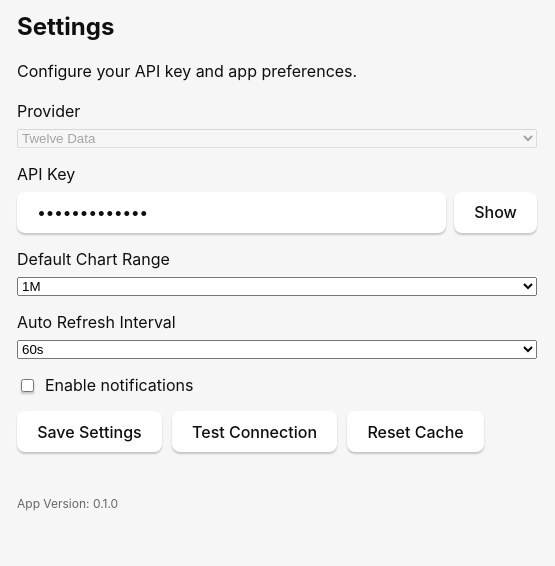
Test: SettingsScreen › clears cache from settings action
What coordinates should you click on to do the following:
click the button "Reset Cache"
I would click on:
 (416, 432)
Its box is [347,411,484,452].
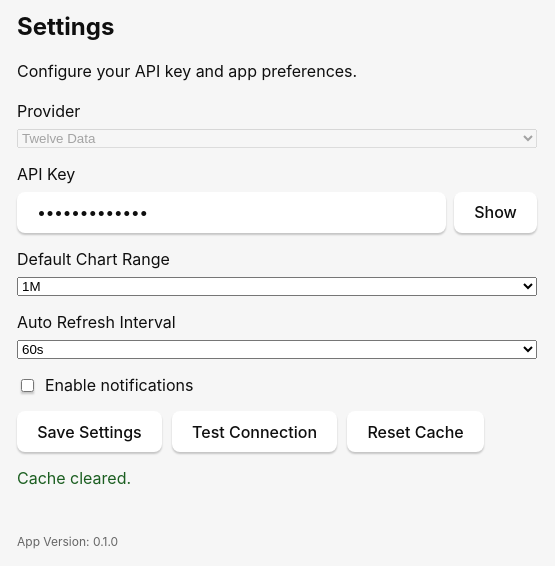
Now the text "Cache cleared." is shown, box [17,468,131,488]
